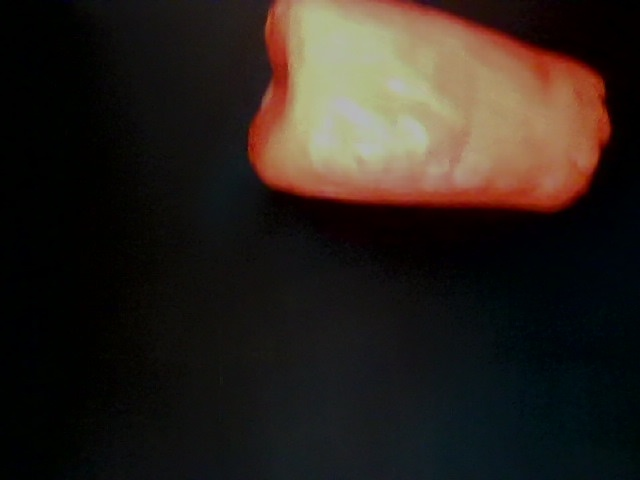KHSLJ: (321, 388, 509, 480)
